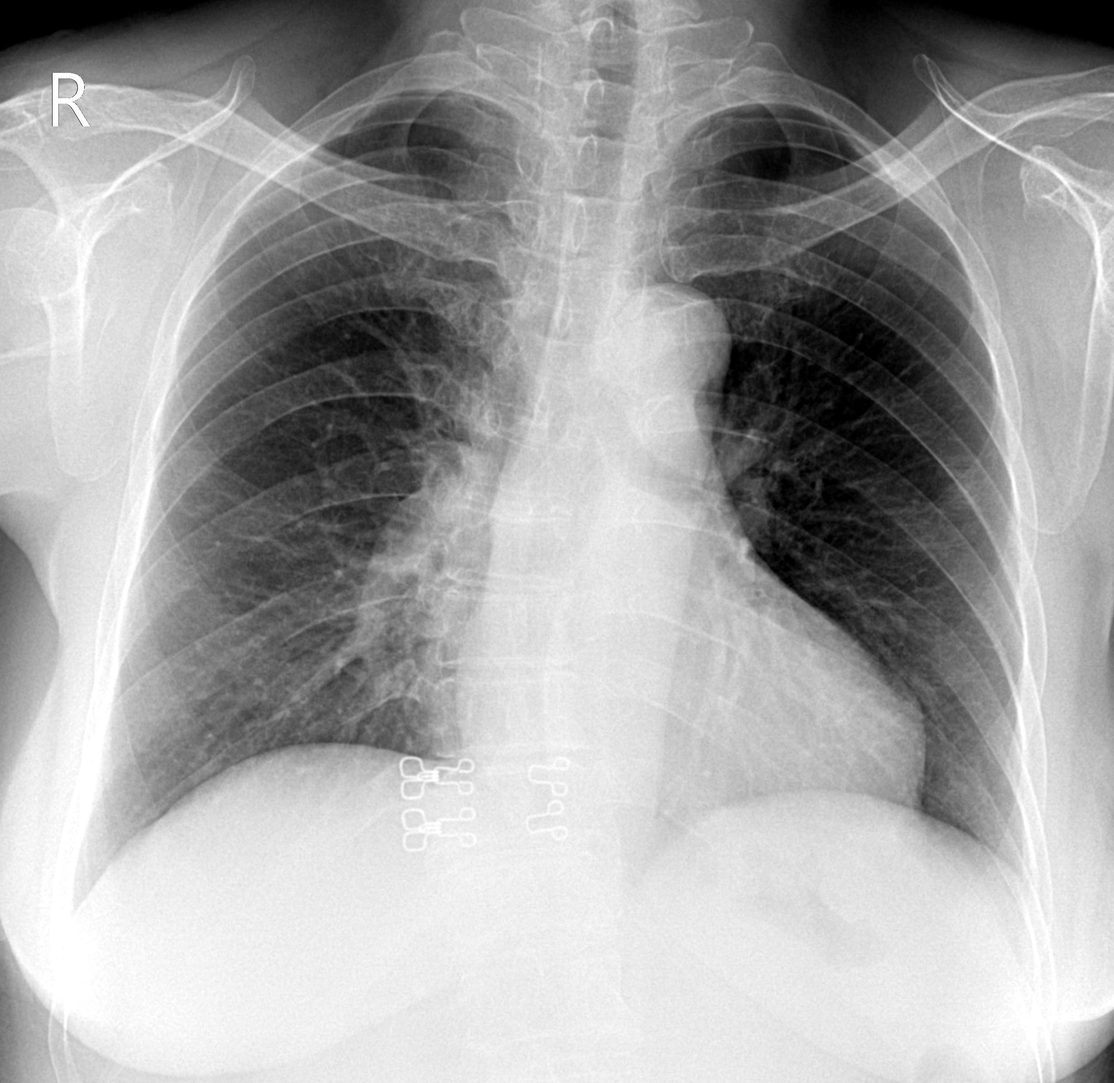Aortic enlargement: (603, 280, 734, 413)
Cardiomegaly: (448, 670, 931, 820)
Pleural thickening: (693, 102, 765, 124)
